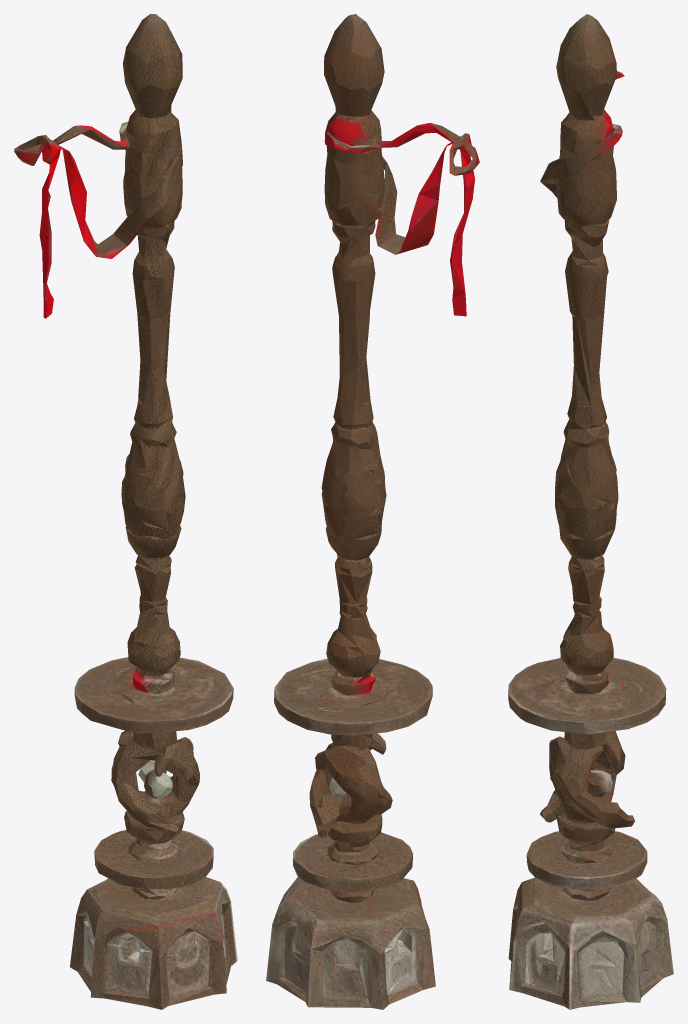
The model's file is rocca.glb.
3 renders of one model, left to right at view 1: azimuth 30°, elevation 25°; view 2: azimuth 150°, elevation 25°; view 3: azimuth 270°, elevation 25°, orthographic.
Size of the model in its own units: 0.4239 by 1.9 by 0.2978.
Materials: 1 (1 with a texture image).
